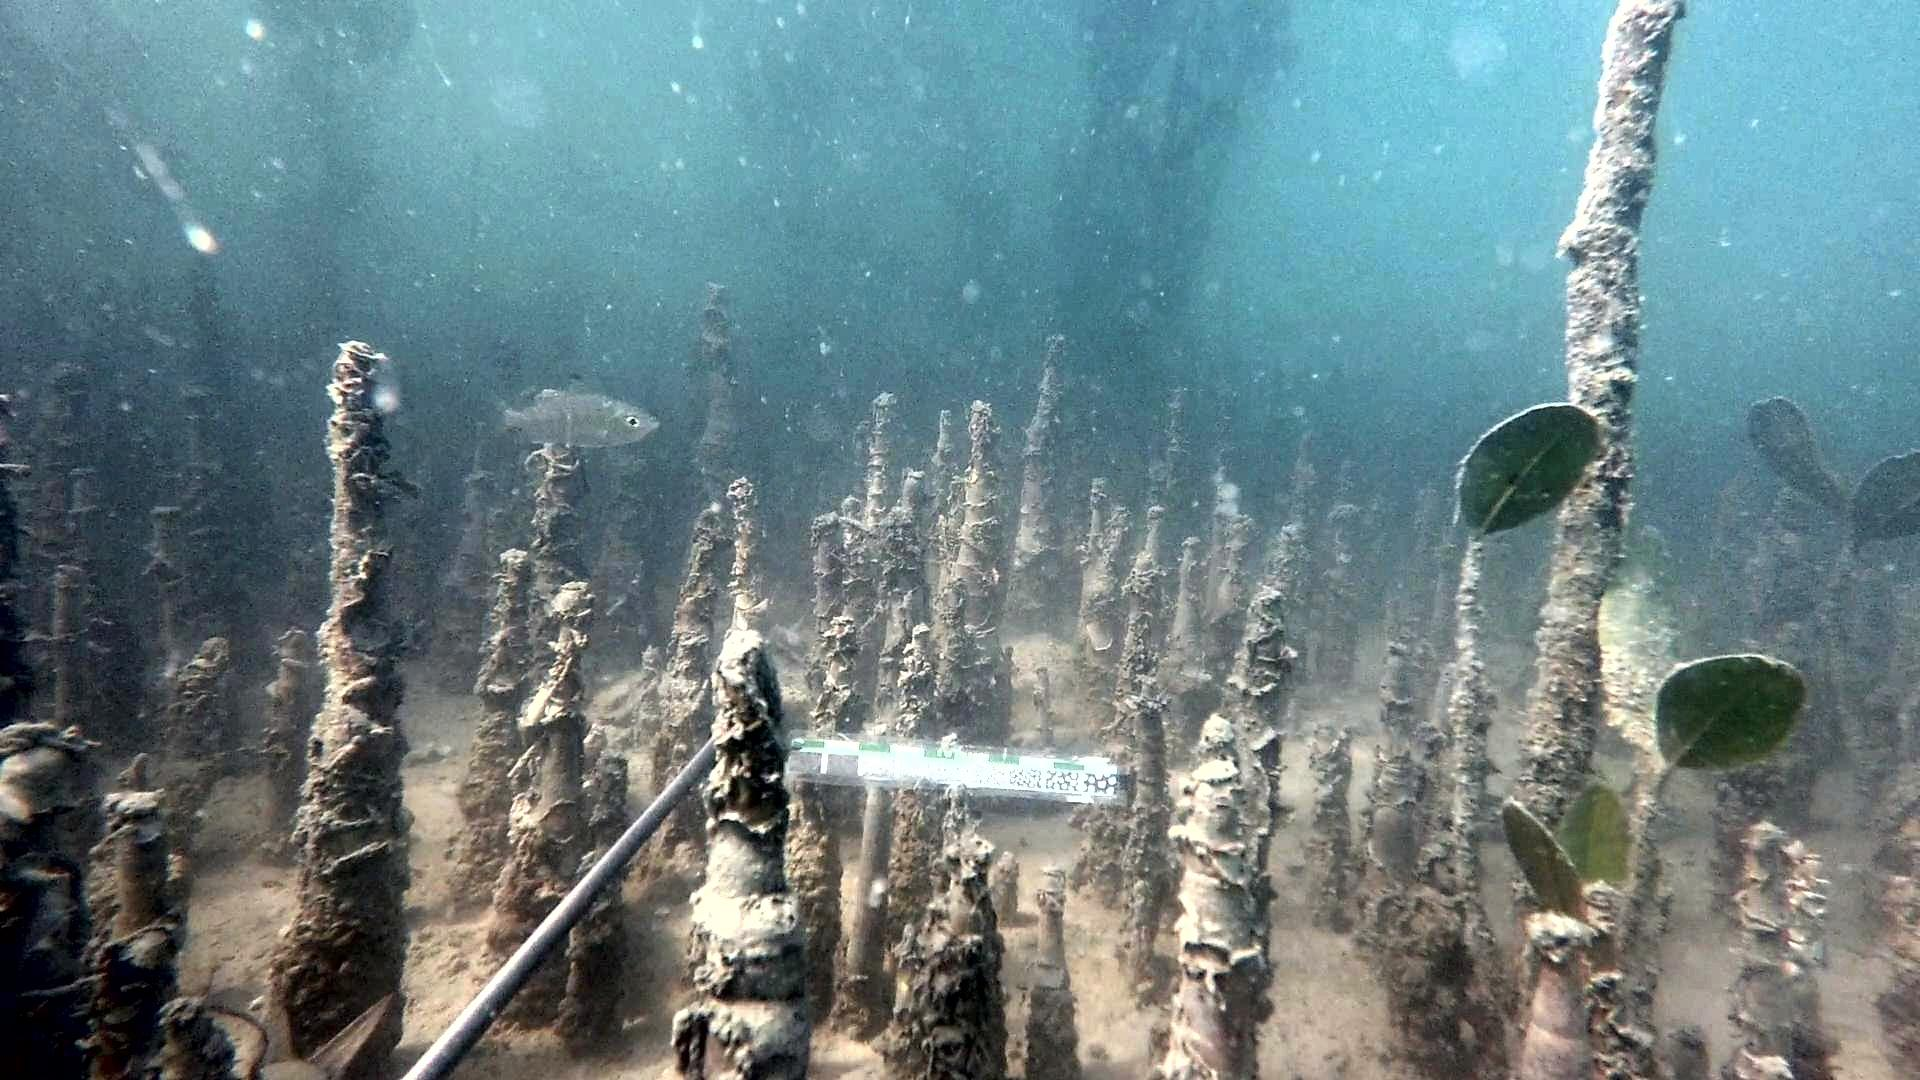gerres: (464, 371, 661, 452)
